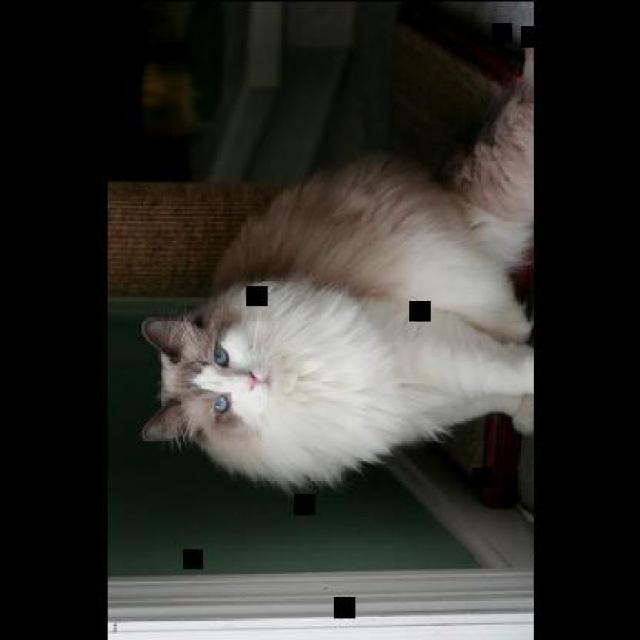unauthorized: (137, 57, 534, 494)
